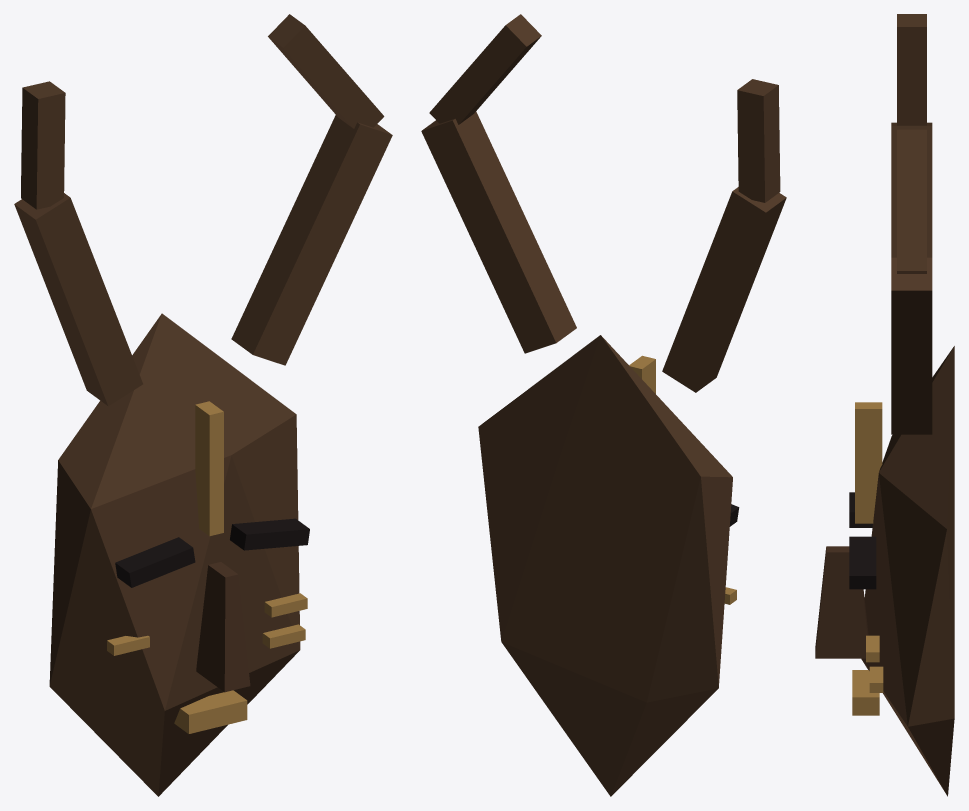
Rendered from wall-mask-08.glb.
The picture shows the model from 3 angles, left to right: view 1: azimuth 30°, elevation 25°; view 2: azimuth 150°, elevation 25°; view 3: azimuth 270°, elevation 25°; orthographic projection. The views are drawn at different scales.
Visible parts, largest first — view 1: wall_mask_08; view 2: wall_mask_08; view 3: wall_mask_08.
Boxes of the visible parts, x1,y1,x2,y2 form: wall_mask_08: (14, 14, 392, 796); wall_mask_08: (421, 14, 786, 796); wall_mask_08: (815, 14, 954, 796).
Size of the model in its own units: 0.2874 by 0.5858 by 0.1023.
